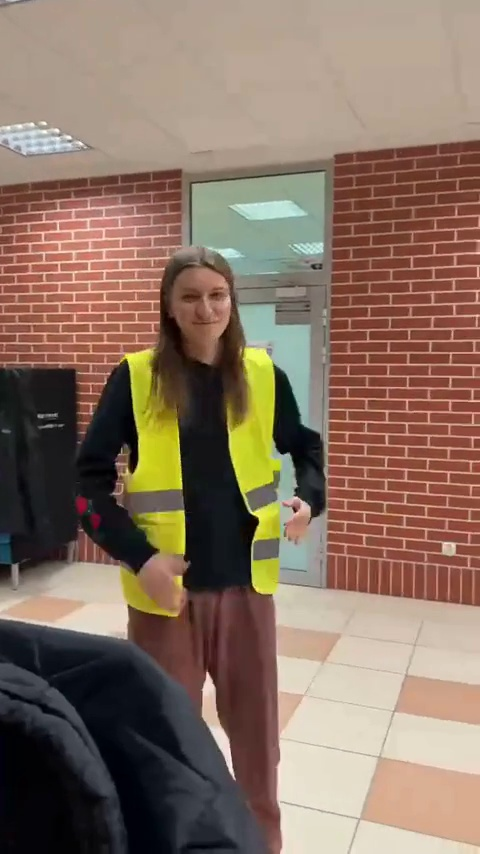vest: (86, 253, 329, 812)
